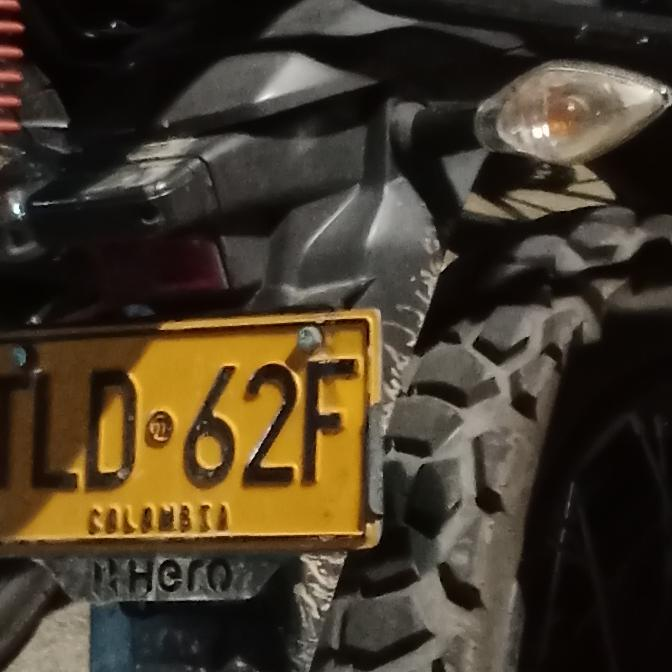plates: (0, 316, 368, 555)
